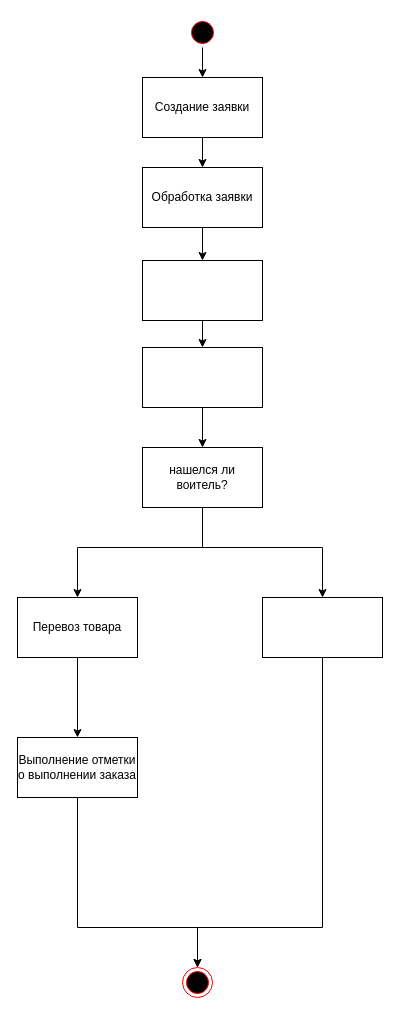
The diagram is 400 pixels wide and 1015 high, and some of its shapes have lost their labels. The shapes that lost their labels are listed below. From the top down, each one's centre as x and y in pixels, then its label:
At point (202, 290): "Поиск подходящей машины".
At point (202, 377): "Проверка машины и воителя".
At point (322, 627): "Отказ в доставке".
